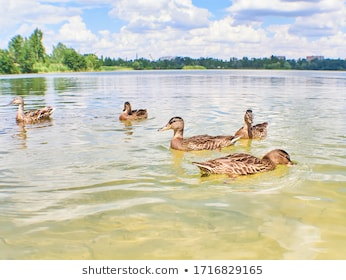duck: (149, 111, 241, 152), (188, 151, 302, 182), (7, 92, 62, 133), (234, 103, 273, 146), (112, 99, 157, 125)
